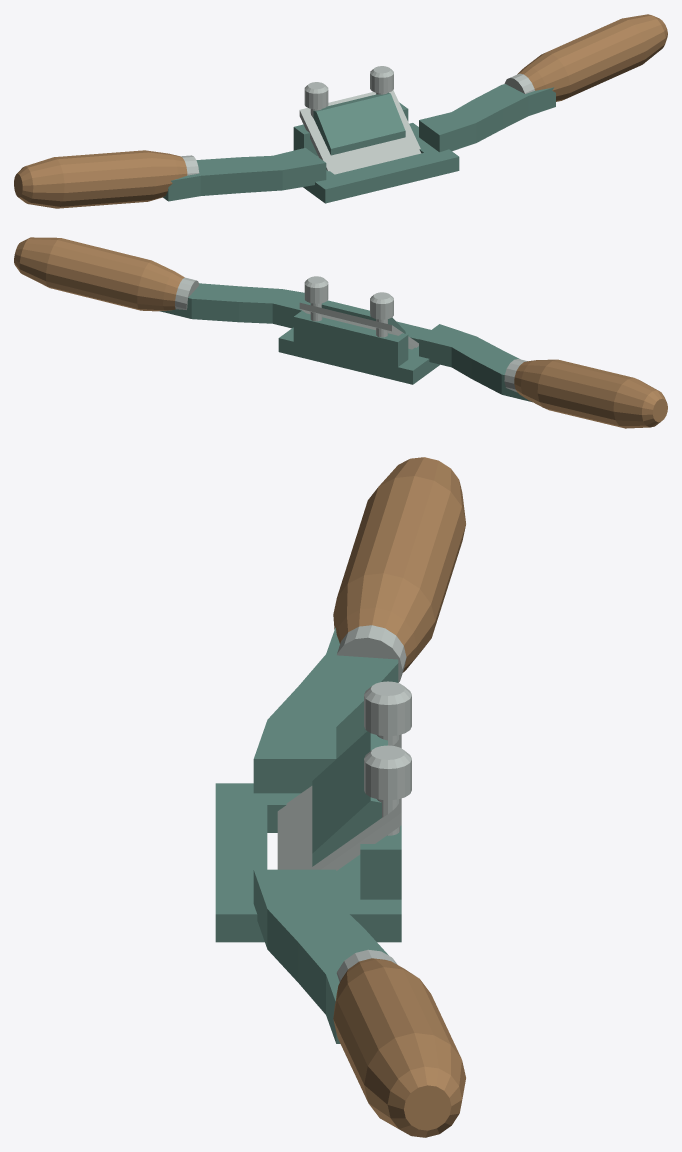
3 views of the same model, one above another, from view 1: azimuth 30°, elevation 25°; view 2: azimuth 150°, elevation 25°; view 3: azimuth 270°, elevation 25° (orthographic). The views are drawn at different scales.
Parts seen in each view (by area): view 1: WholeTransverseWoodGrip_-1, WholeTransverseWoodGrip_1, WholeSideWing_-1, WholeSideWing_1, WholeShortThroughMouthSole, WholeRaisedPressureCap, WholeLowInclinedBluntIron, WholeFixedAdjusterHead_-0.022, WholeFixedAdjusterHead_0.022, WholeRootCollar_1; view 2: WholeTransverseWoodGrip_1, WholeTransverseWoodGrip_-1, WholeShortThroughMouthSole, WholeSideWing_1, WholeSideWing_-1, WholeLowInclinedBluntIron, WholeFixedAdjusterHead_0.022, WholeFixedAdjusterHead_-0.022, WholeRaisedPressureCap, WholeRootCollar_1, WholeRootCollar_-1; view 3: WholeTransverseWoodGrip_-1, WholeTransverseWoodGrip_1, WholeShortThroughMouthSole, WholeSideWing_-1, WholeSideWing_1, WholeRaisedPressureCap, WholeLowInclinedBluntIron, WholeFixedAdjusterHead_0.022, WholeFixedAdjusterHead_-0.022, WholeRootCollar_-1.
Boxes of the visible parts, left/top/right/bottom form: WholeTransverseWoodGrip_-1: left=14, top=150, right=187, bottom=208; WholeTransverseWoodGrip_1: left=517, top=14, right=667, bottom=101; WholeSideWing_-1: left=163, top=148, right=326, bottom=201; WholeSideWing_1: left=419, top=84, right=555, bottom=152; WholeShortThroughMouthSole: left=293, top=102, right=459, bottom=203; WholeRaisedPressureCap: left=313, top=92, right=405, bottom=155; WholeLowInclinedBluntIron: left=299, top=90, right=421, bottom=174; WholeFixedAdjusterHead_-0.022: left=304, top=82, right=328, bottom=117; WholeFixedAdjusterHead_0.022: left=370, top=66, right=393, bottom=94; WholeRootCollar_1: left=504, top=73, right=534, bottom=93; WholeTransverseWoodGrip_1: left=14, top=237, right=184, bottom=311; WholeTransverseWoodGrip_-1: left=514, top=359, right=667, bottom=428; WholeShortThroughMouthSole: left=278, top=310, right=439, bottom=384; WholeSideWing_1: left=159, top=283, right=310, bottom=328; WholeSideWing_-1: left=419, top=324, right=532, bottom=402; WholeLowInclinedBluntIron: left=299, top=302, right=418, bottom=349; WholeFixedAdjusterHead_0.022: left=304, top=276, right=328, bottom=321; WholeFixedAdjusterHead_-0.022: left=370, top=292, right=393, bottom=337; WholeRaisedPressureCap: left=321, top=300, right=405, bottom=333; WholeRootCollar_1: left=175, top=277, right=199, bottom=309; WholeRootCollar_-1: left=504, top=359, right=527, bottom=392; WholeTransverseWoodGrip_-1: left=333, top=457, right=465, bottom=672; WholeTransverseWoodGrip_1: left=333, top=958, right=465, bottom=1137; WholeShortThroughMouthSole: left=215, top=783, right=401, bottom=942; WholeSideWing_-1: left=253, top=627, right=398, bottom=793; WholeSideWing_1: left=253, top=869, right=388, bottom=1043; WholeRaisedPressureCap: left=312, top=731, right=387, bottom=866; WholeLowInclinedBluntIron: left=277, top=734, right=401, bottom=870; WholeFixedAdjusterHead_0.022: left=364, top=745, right=411, bottom=835; WholeFixedAdjusterHead_-0.022: left=364, top=681, right=411, bottom=745; WholeRootCollar_-1: left=337, top=625, right=406, bottom=682.
Size of the model in its own units: 0.4331 by 0.05 by 0.0727.
